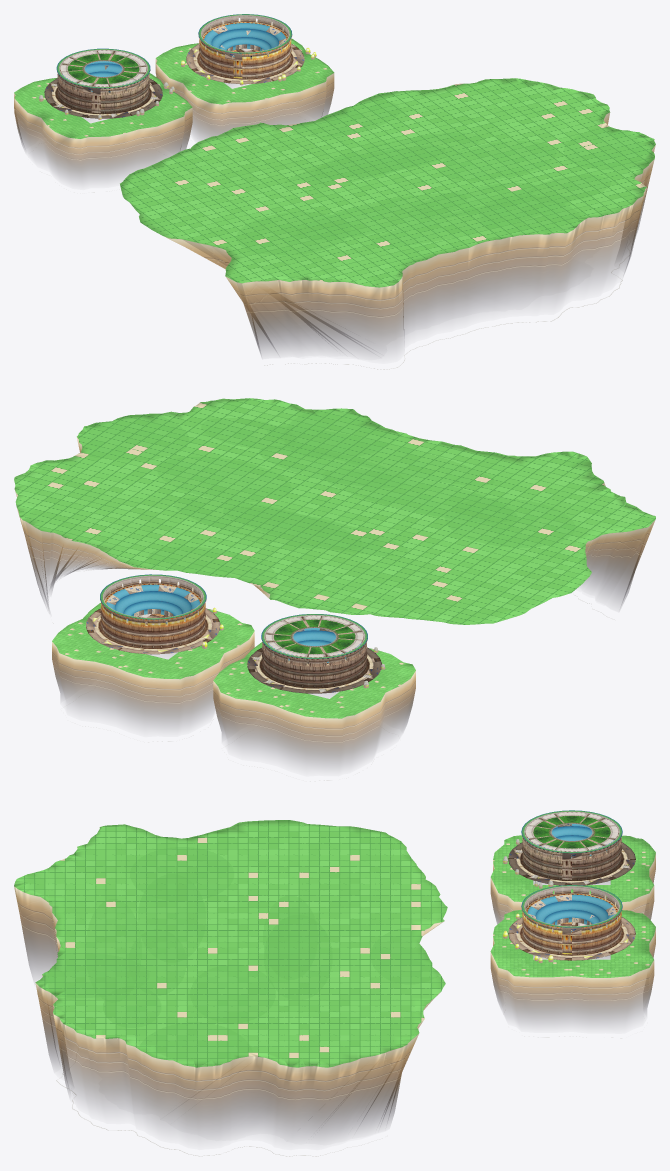
The model's file is digi_farm_3d.glb.
3 renders of one model, top to bottom at view 1: azimuth 30°, elevation 25°; view 2: azimuth 150°, elevation 25°; view 3: azimuth 270°, elevation 25°, orthographic. The views are drawn at different scales.
Visible parts, largest first — view 1: Island, IlandColosseum.002, IlandColosseum.001, FarmColosseum_C, FarmColosseum_O.001; view 2: Island, IlandColosseum.002, IlandColosseum.001, FarmColosseum_O.001, FarmColosseum_C; view 3: Island, IlandColosseum.001, FarmColosseum_O.001, FarmColosseum_C, IlandColosseum.002.
Part boxes in pixels (left/top/right/bottom): Island: left=120, top=78, right=655, bottom=369; IlandColosseum.002: left=14, top=73, right=192, bottom=181; IlandColosseum.001: left=155, top=38, right=334, bottom=139; FarmColosseum_C: left=39, top=48, right=174, bottom=119; FarmColosseum_O.001: left=181, top=14, right=316, bottom=85; Island: left=14, top=398, right=655, bottom=624; IlandColosseum.002: left=213, top=642, right=415, bottom=766; IlandColosseum.001: left=52, top=603, right=254, bottom=726; FarmColosseum_O.001: left=86, top=574, right=223, bottom=654; FarmColosseum_C: left=247, top=614, right=385, bottom=693; Island: left=14, top=820, right=447, bottom=1156; IlandColosseum.001: left=490, top=909, right=655, bottom=1023; FarmColosseum_O.001: left=502, top=885, right=635, bottom=963; FarmColosseum_C: left=502, top=810, right=635, bottom=888; IlandColosseum.002: left=490, top=835, right=655, bottom=924.
Bounding box in the file's own units: 1.93 × 0.5038 × 2.11.
Materials: 4 (4 with a texture image).
